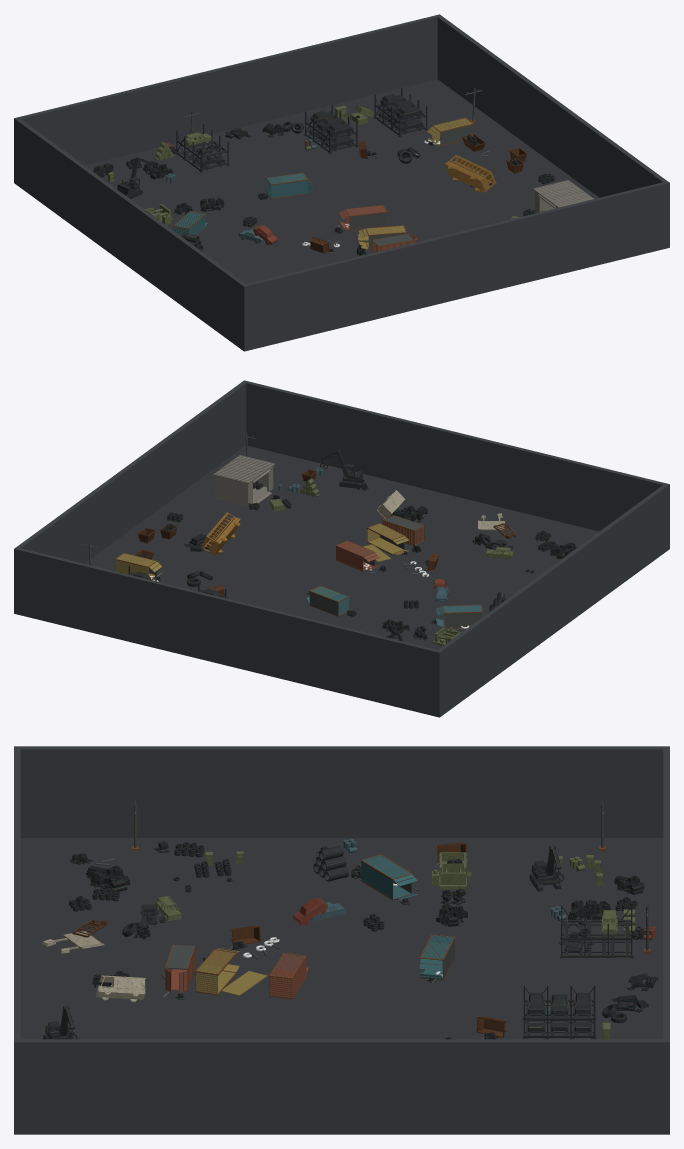
Rendered from junkyard.glb.
The picture shows the model from 3 angles, top to bottom: view 1: azimuth 30°, elevation 25°; view 2: azimuth 150°, elevation 25°; view 3: azimuth 270°, elevation 25°; orthographic projection. The views are drawn at different scales.
Visible parts, largest first — view 1: Cube, car_rack_loaded_6, Rack - middle six cars, workshop_open, bus_upright, car_rack_empty, sorting_crane, 01 - central side-fallen freight | floor, 02 - central angled collapse | roof; view 2: Cube, workshop_open, bus_upright, Second sorting crane; view 3: Cube, Rack - middle six cars, car_rack_empty, scrap_hydraulic_press, Van - workshop service, sorting_crane, playground_pipe_stack_6, scrap_heap_large, Second sorting crane, scrap_heap_extra_large, 05 - west processing spill | roof, fallen_signboard_simple.
Part boxes in pixels (<box>): Cube: <box>14,14,669,351</box>; car_rack_loaded_6: <box>373,88,428,136</box>; Rack - middle six cars: <box>303,105,358,153</box>; workshop_open: <box>533,180,593,213</box>; bus_upright: <box>444,155,496,192</box>; car_rack_empty: <box>175,123,229,172</box>; sorting_crane: <box>117,157,151,199</box>; 01 - central side-fallen freight | floor: <box>349,212,387,229</box>; 02 - central angled collapse | roof: <box>271,180,308,198</box>; Cube: <box>14,380,669,717</box>; workshop_open: <box>213,455,275,506</box>; bus_upright: <box>201,512,240,555</box>; Second sorting crane: <box>320,449,364,488</box>; Cube: <box>14,746,669,1134</box>; Rack - middle six cars: <box>522,985,596,1038</box>; car_rack_empty: <box>560,905,633,958</box>; scrap_hydraulic_press: <box>432,852,471,889</box>; Van - workshop service: <box>95,975,145,1002</box>; sorting_crane: <box>529,845,563,891</box>; playground_pipe_stack_6: <box>313,845,348,881</box>; scrap_heap_large: <box>86,865,130,892</box>; Second sorting crane: <box>43,1005,77,1039</box>; scrap_heap_extra_large: <box>568,899,611,919</box>; 05 - west processing spill | roof: <box>361,862,393,898</box>; fallen_signboard_simple: <box>41,931,104,953</box>.
Size of the model in its own units: 77.94 by 11.34 by 73.01.
3 materials, 1 textured.
